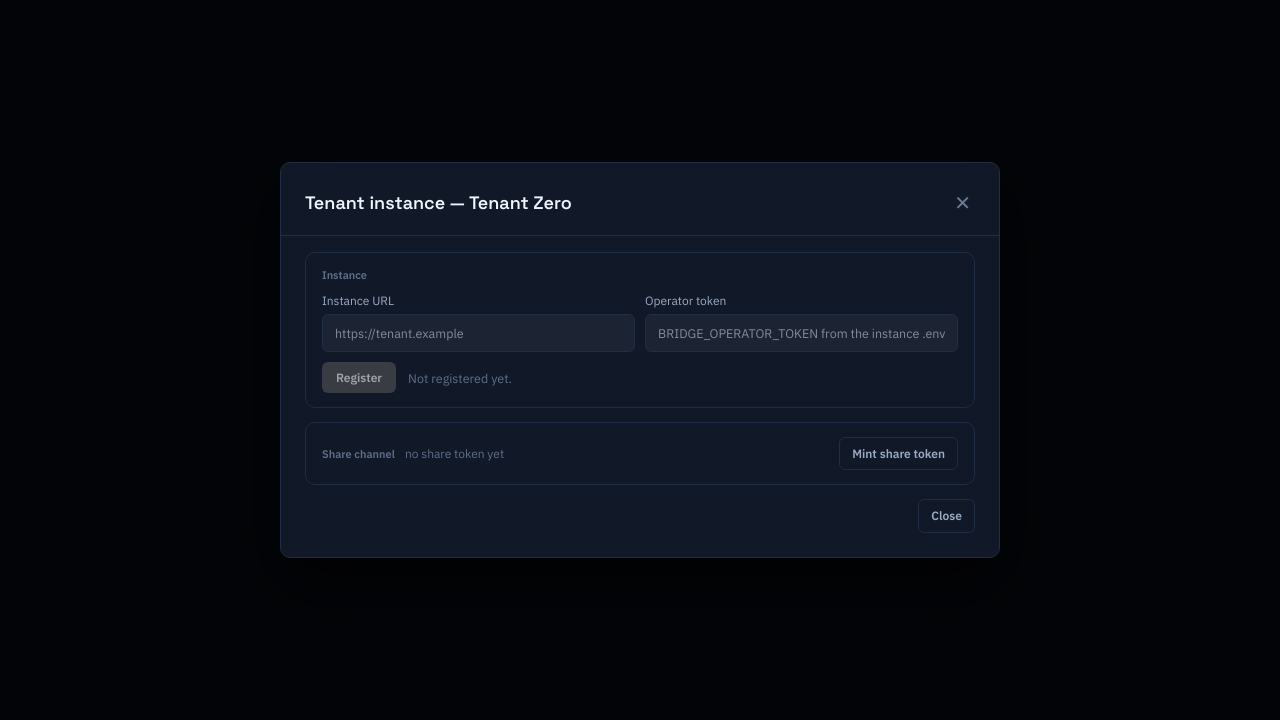
Test: TenantModal › registers an unregistered tenant with URL and operator token
Expected: the text "Not registered yet." is shown, 408,370 -> 512,386
In the field with placeholder "https://tenant.example": (478, 333) 322,314 -> 635,352, type "http://tenant/"
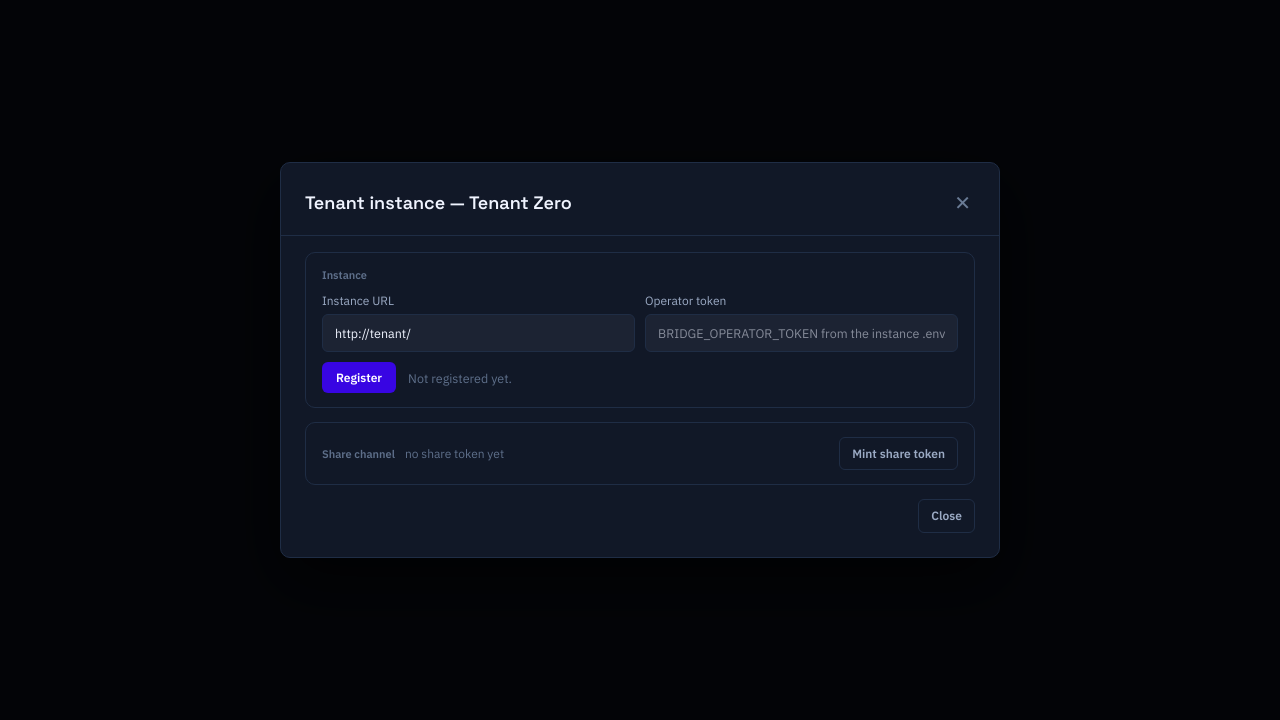
In the password field with placeholder "BRIDGE_OPERATOR_TOKEN from the instance .env": (802, 333) 645,314 -> 958,352, type "op-secret"
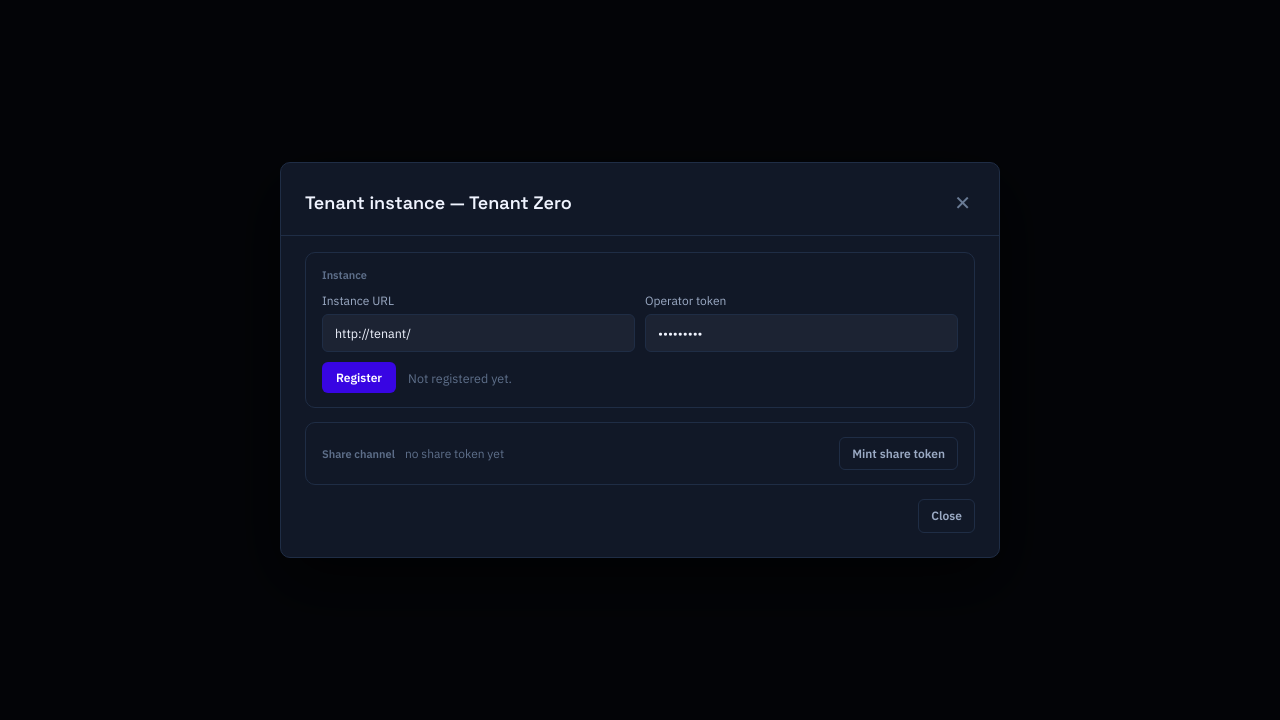
Click the button "Register": click(359, 378) 322,362 -> 396,393
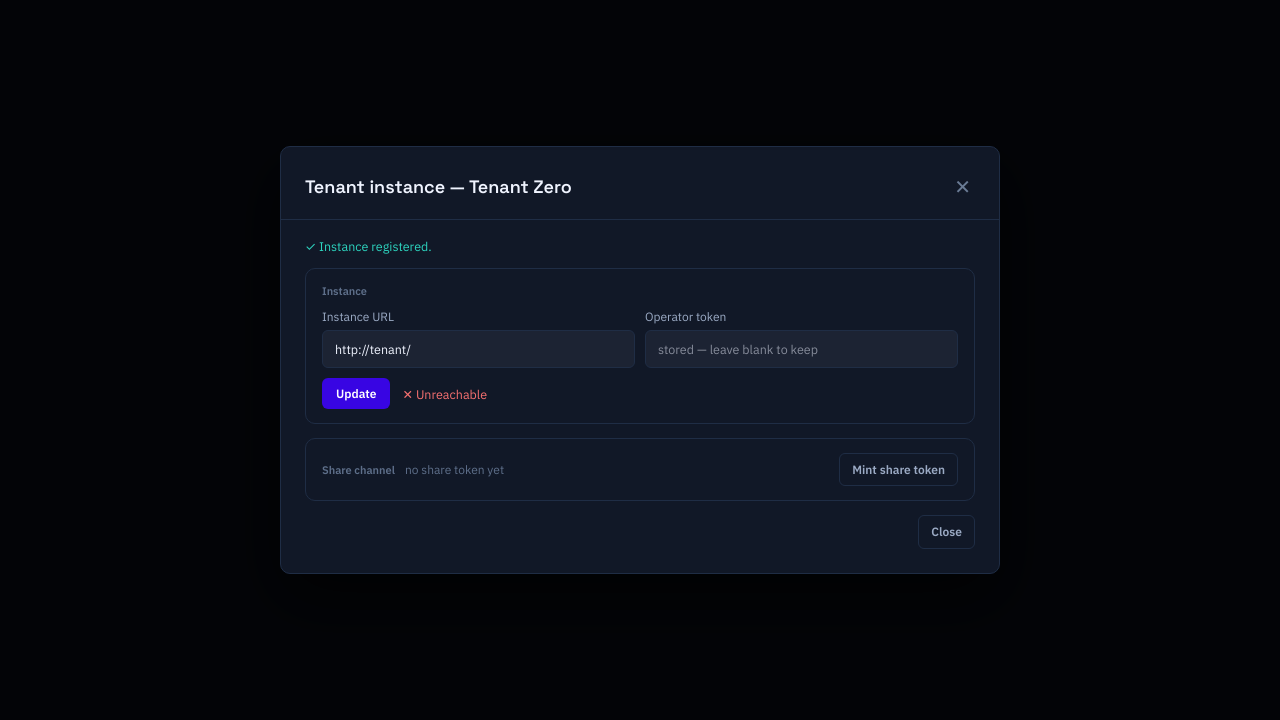
Result: the text "✓ Instance registered." is shown at 305,238 -> 432,254
